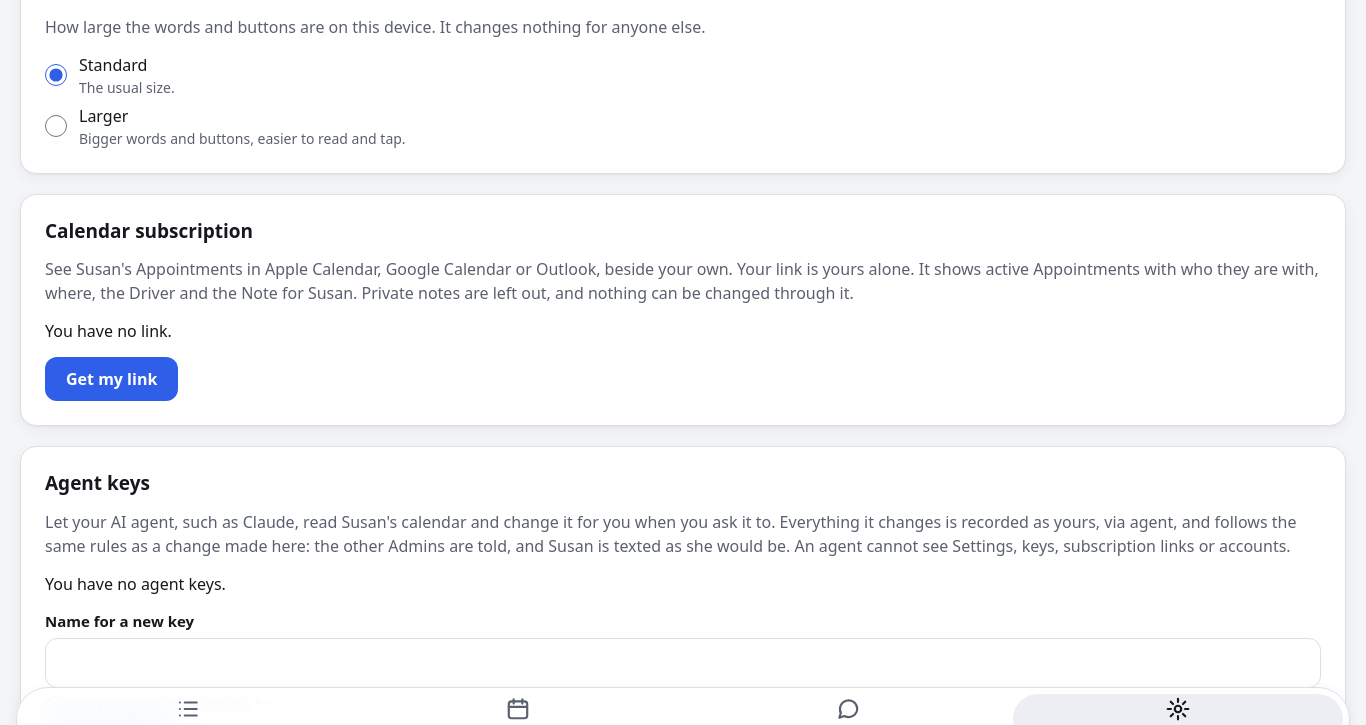
Scenario: the Calendar subscription section of Settings › switches the link off, after asking, and it stops working
This screenshot has width=1366, height=725.
(page scrolled)
Click the button "Get my link" at (112, 379), box [45,357,178,401]
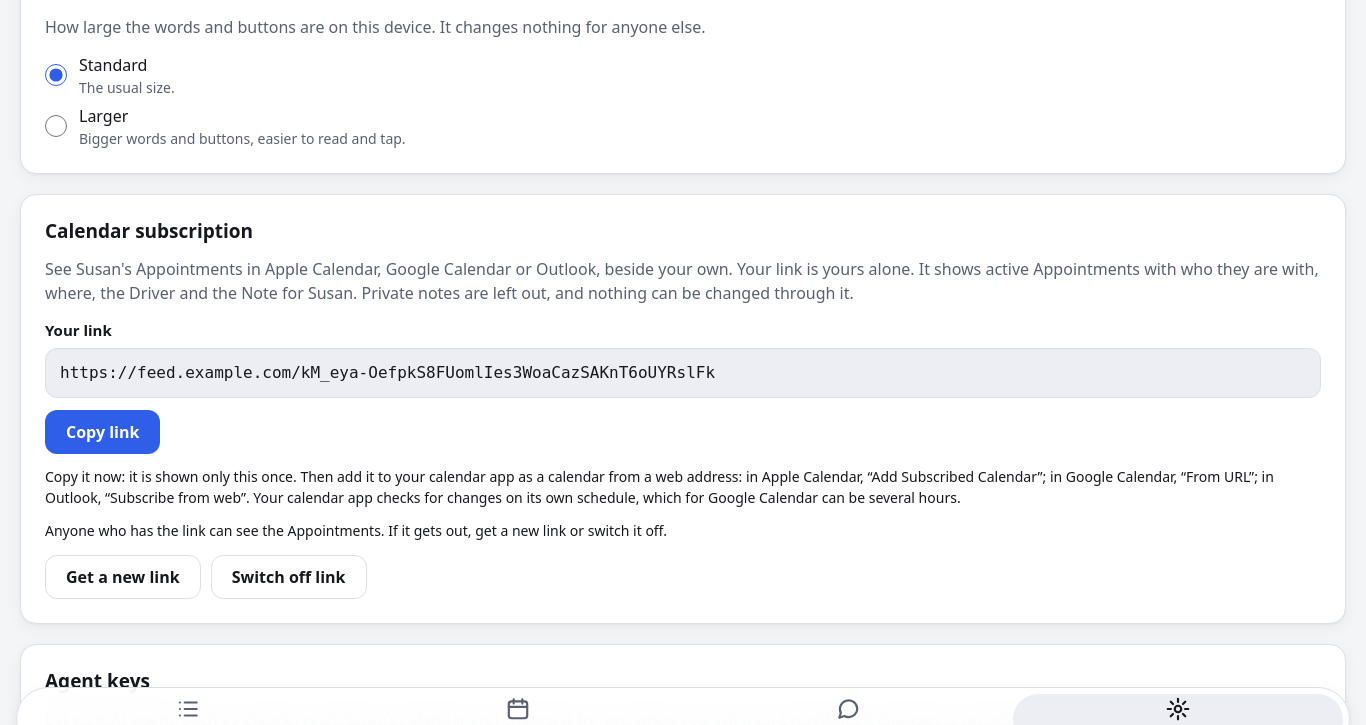
Click the button "Switch off link" at (289, 577), box [211,555,367,599]
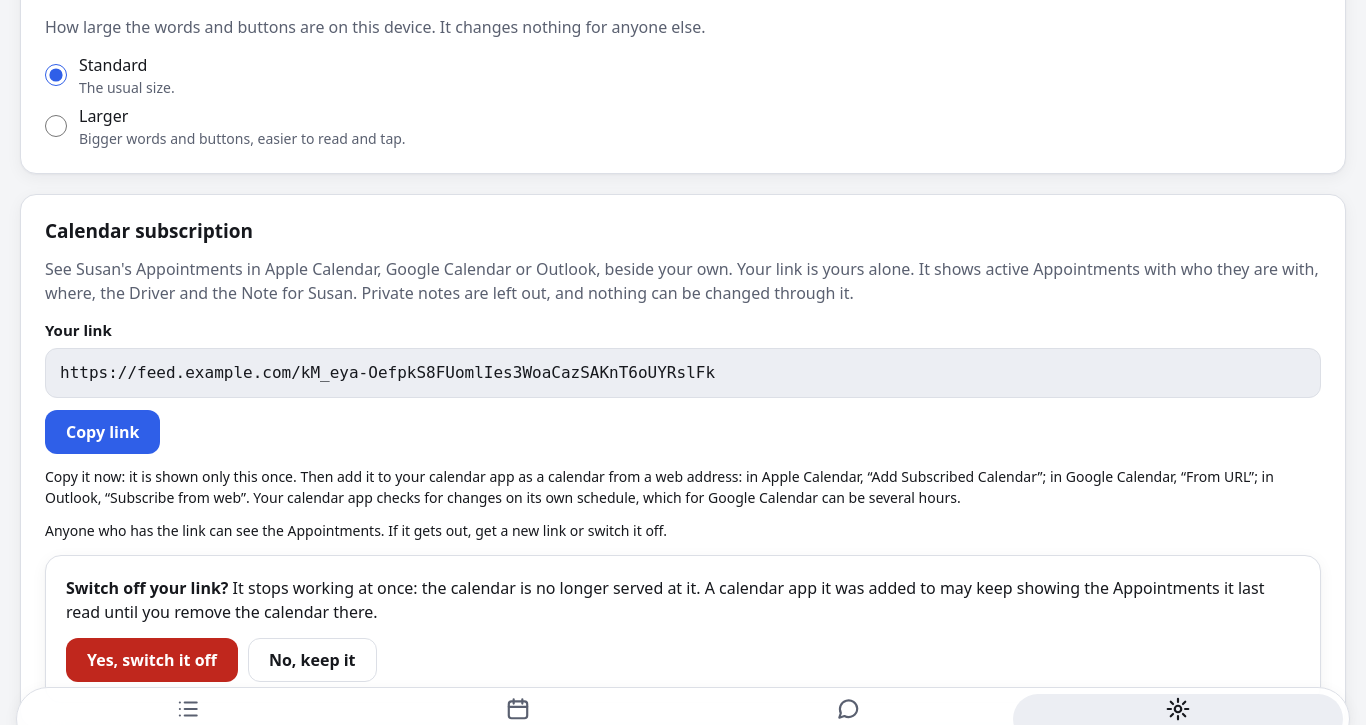
Expected: the element "Switch off your link?" shows "stops working at once: the calendar is no longer served", [66,577,1264,623]
Expected: the element "Switch off your link?" shows "may keep showing the Appointments it last read", [66,577,1264,623]
Click the button "No, keep it" at (312, 660), box [248,638,377,682]
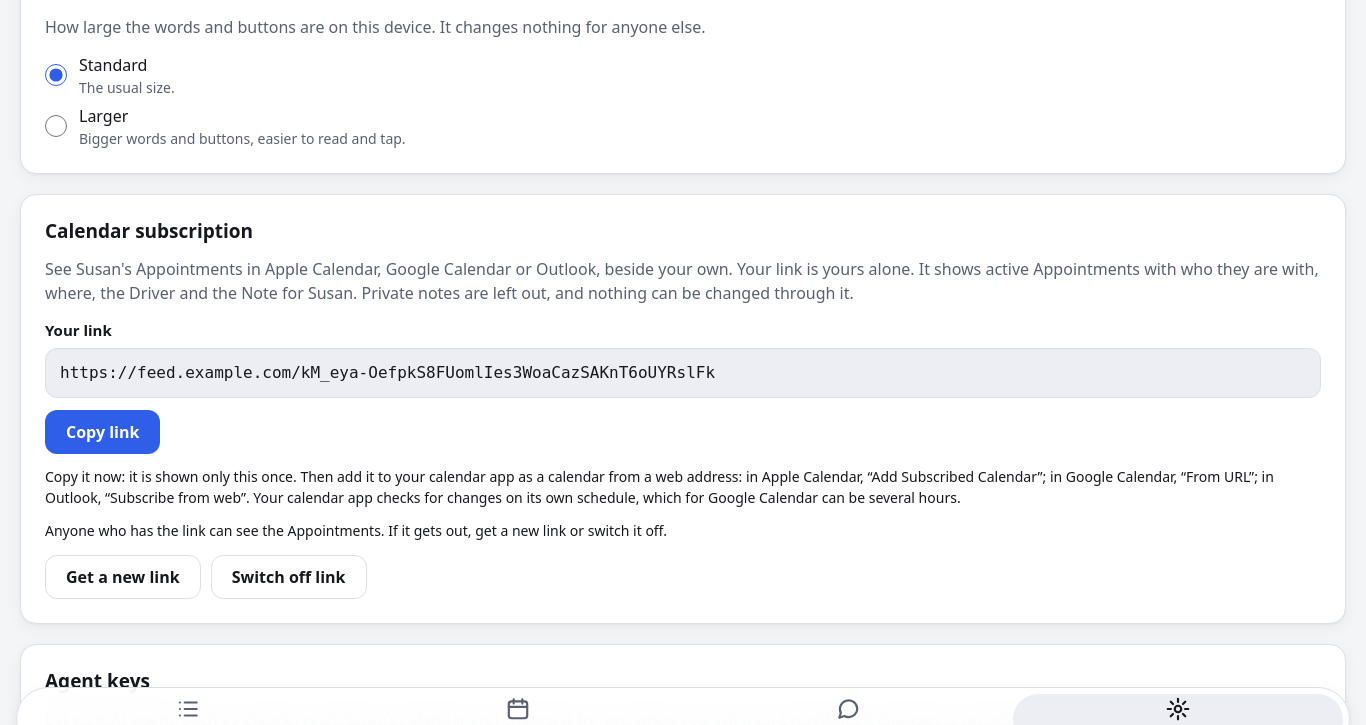
Click the button "Switch off link" at (289, 577), box [211,555,367,599]
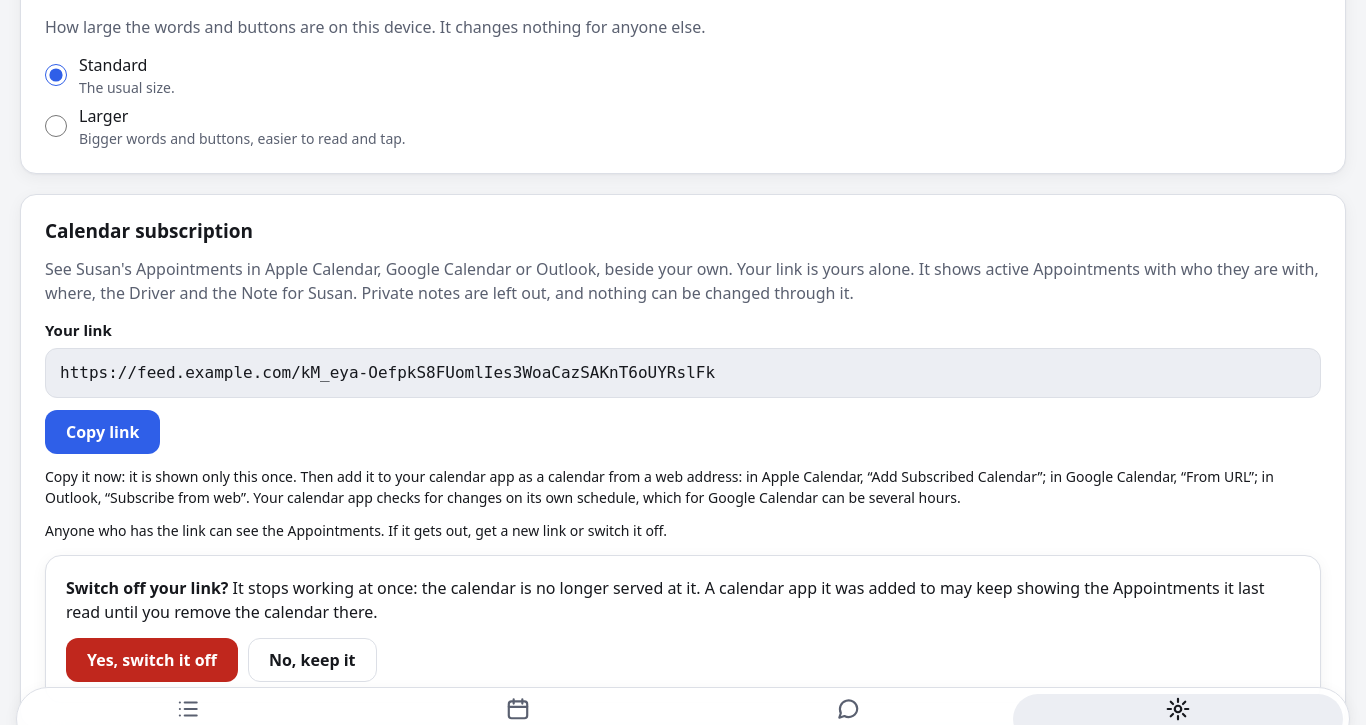
Click the button "Yes, switch it off" at (152, 660), box [66,638,238,682]
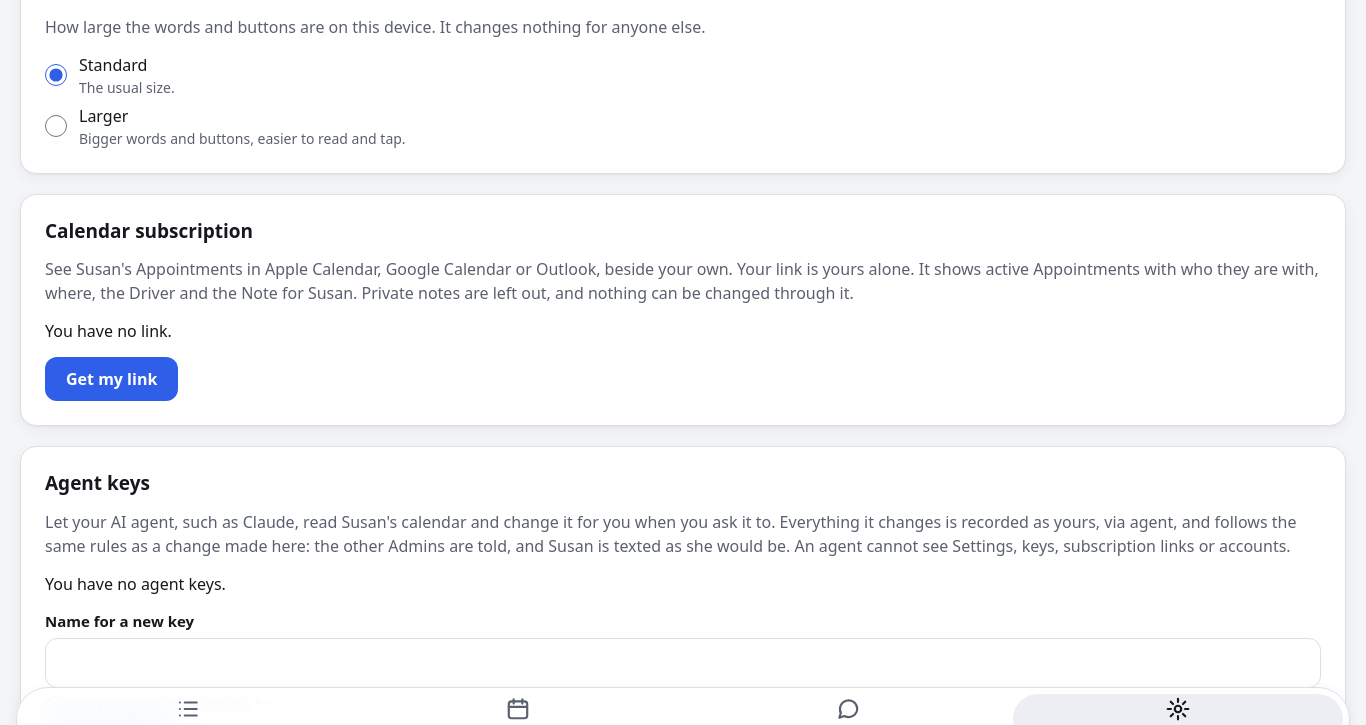
Expected: the text "You have no link." is shown, [45,320,172,342]
